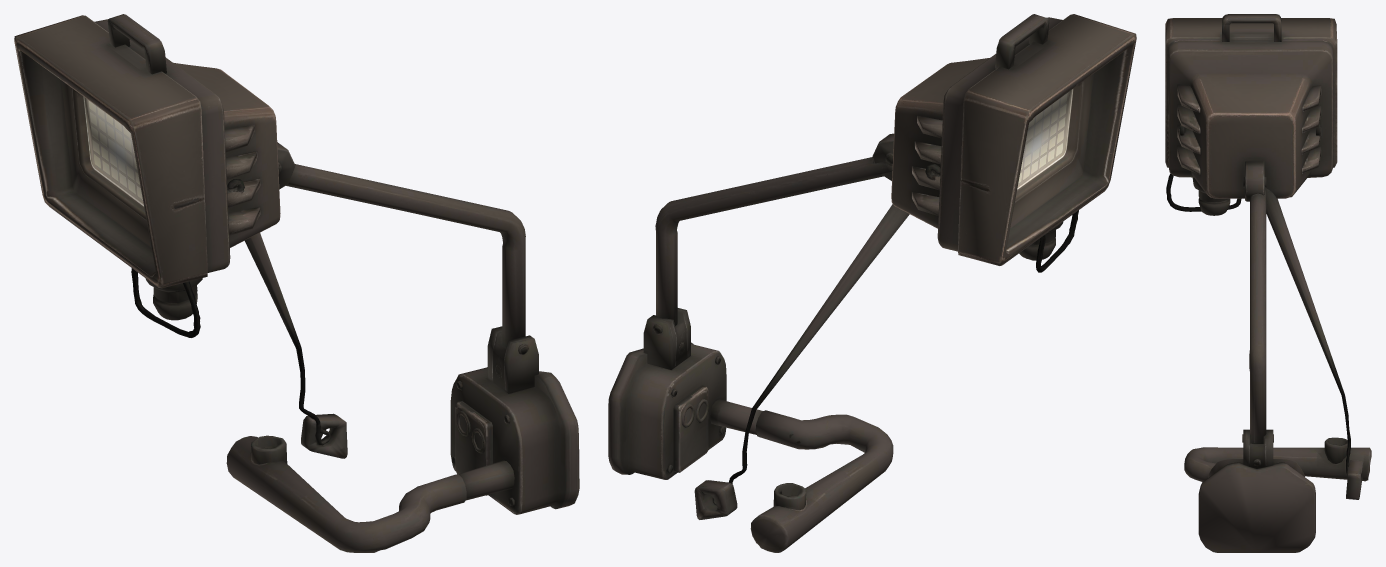
File: selected.glb
The picture shows the model from 3 angles, left to right: view 1: azimuth 30°, elevation 25°; view 2: azimuth 150°, elevation 25°; view 3: azimuth 270°, elevation 25°; orthographic projection. The views are drawn at different scales.
Visible parts, largest first — view 1: tripo_node_09c5f553-ae18-45e5-9c50-feb0bdca90af; view 2: tripo_node_09c5f553-ae18-45e5-9c50-feb0bdca90af; view 3: tripo_node_09c5f553-ae18-45e5-9c50-feb0bdca90af.
Boxes of the visible parts, <box> form: tripo_node_09c5f553-ae18-45e5-9c50-feb0bdca90af: <box>14,14,579,552</box>; tripo_node_09c5f553-ae18-45e5-9c50-feb0bdca90af: <box>608,14,1136,552</box>; tripo_node_09c5f553-ae18-45e5-9c50-feb0bdca90af: <box>1165,14,1371,552</box>.
Bounding box in the file's own units: 0.8809 × 0.998 × 0.4707.
1 material, 1 textured.
